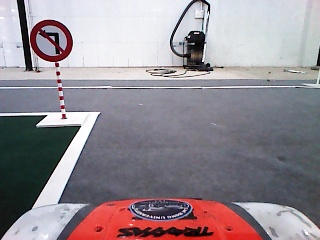ban_left: (29, 19, 74, 62)
